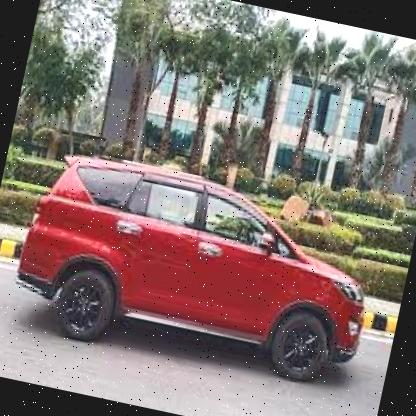car: (0, 134, 391, 411)
